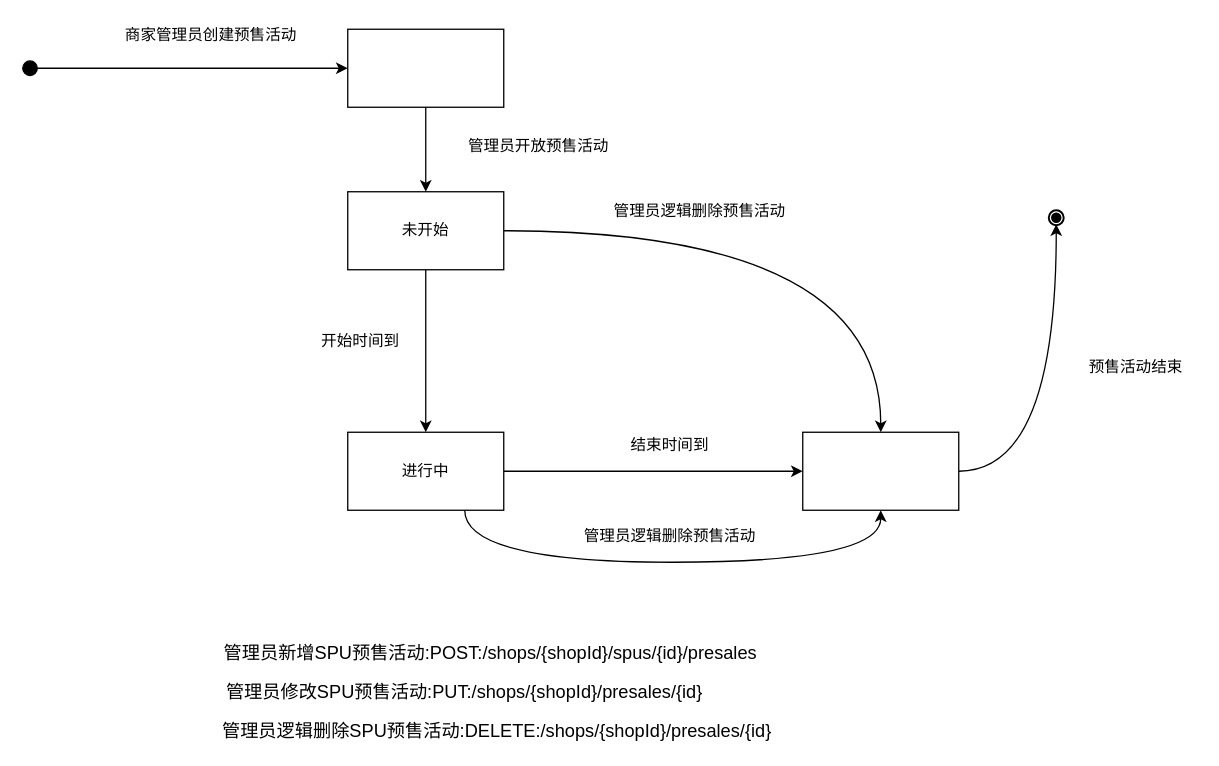
This 1219x766 diagram has some shape labels left out. The centre of each missing label's shape, as x and y in pixels:
"已关闭" goes at (x=880, y=470).
"已创建" goes at (x=425, y=67).
